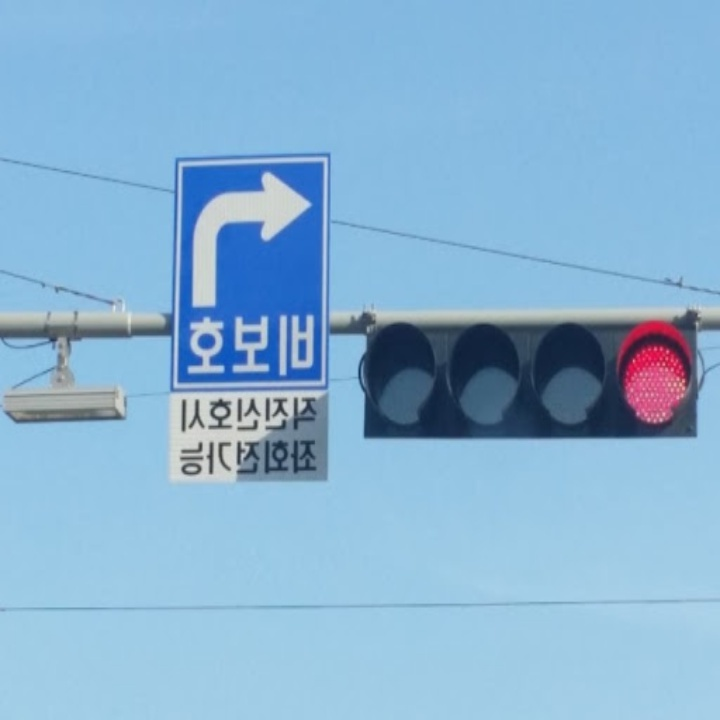right: (181, 166, 323, 307)
